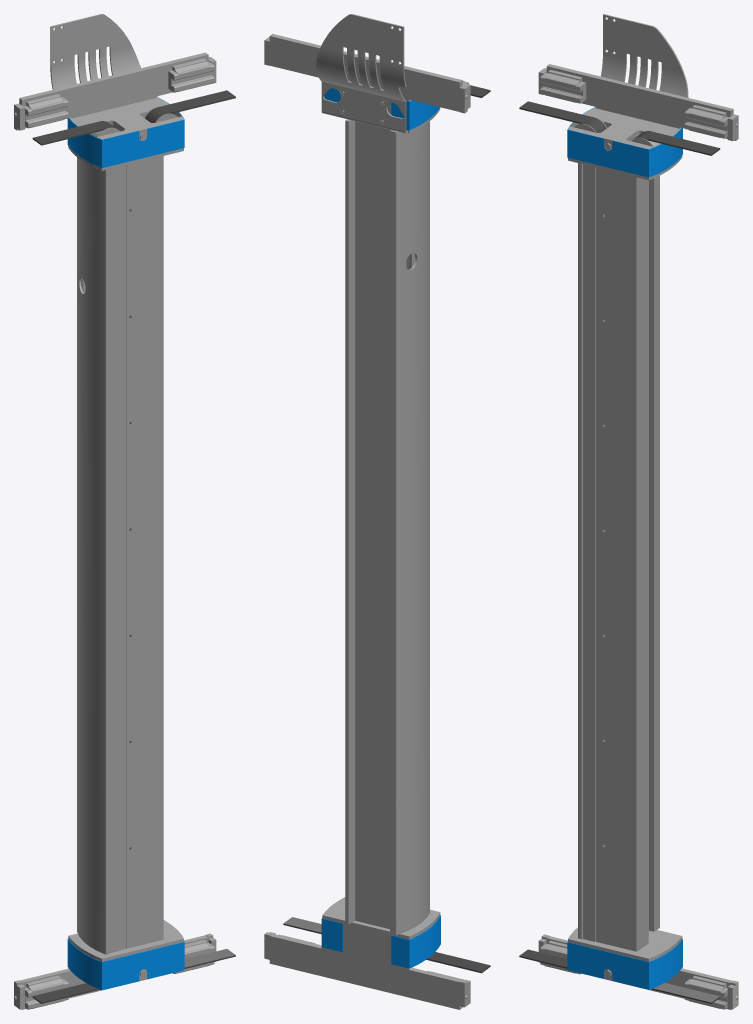
3 views of the same model, side by side, from view 1: azimuth 30°, elevation 25°; view 2: azimuth 150°, elevation 25°; view 3: azimuth 330°, elevation 25° (orthographic). The views are drawn at different scales.
Parts seen in each view (by area): view 1: y.IGS; view 2: y.IGS; view 3: y.IGS.
Part boxes in pixels (box(x1,y1,x2,y2)): y.IGS: box(14, 14, 235, 1009); y.IGS: box(264, 14, 490, 1009); y.IGS: box(519, 14, 738, 1009).
Size of the model in its own units: 0.3909 by 1.81 by 0.153.
Materials: 1 (1 with a texture image).
